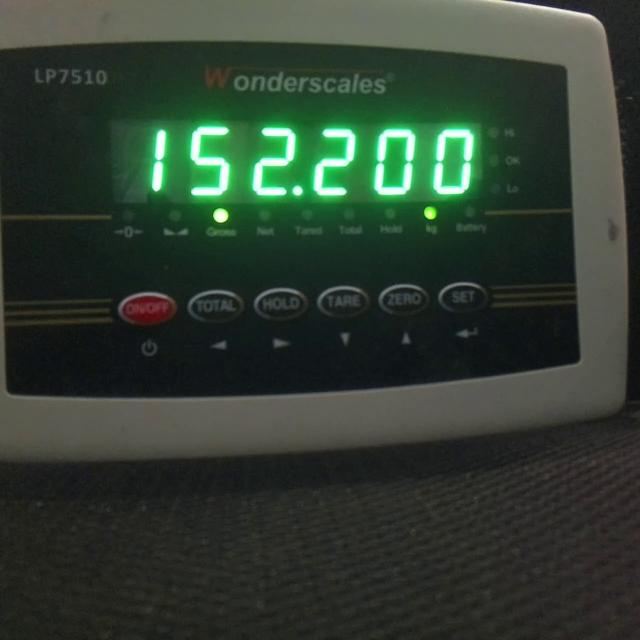.: (291, 185, 304, 197)
0: (374, 128, 416, 195), (434, 128, 474, 195)
1: (150, 128, 167, 192)
2: (252, 126, 297, 196), (312, 128, 355, 196)
5: (188, 125, 231, 197)
